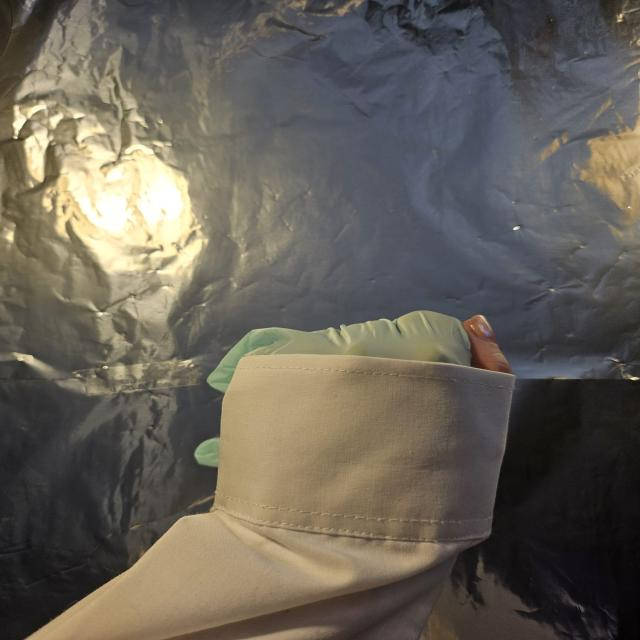glove_partial: (188, 311, 516, 468)
